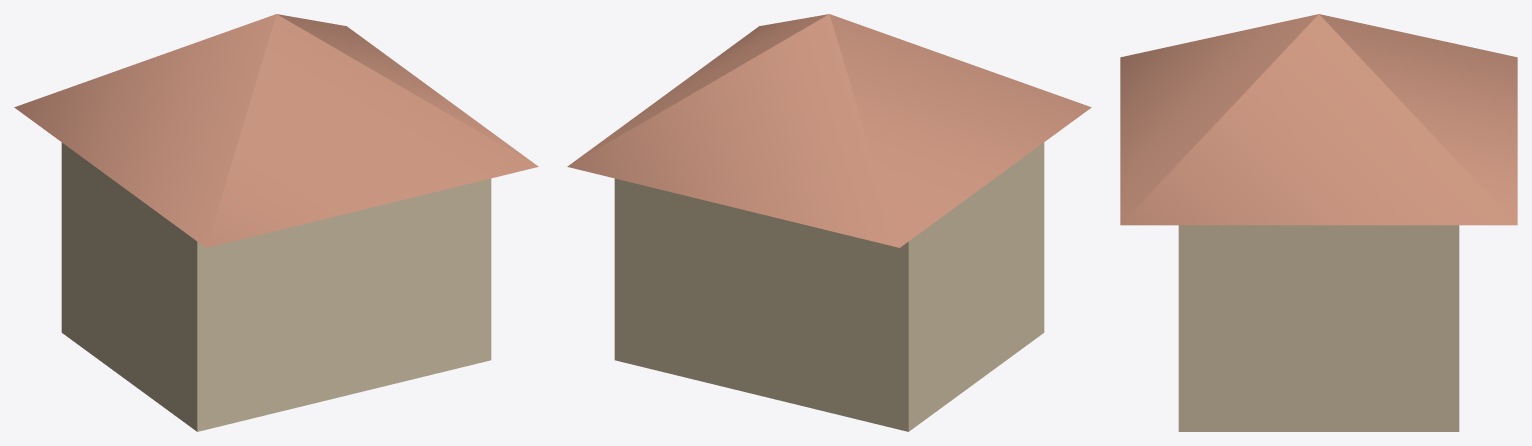
The picture shows the model from 3 angles, left to right: view 1: azimuth 30°, elevation 25°; view 2: azimuth 150°, elevation 25°; view 3: azimuth 270°, elevation 25°; orthographic projection. The views are drawn at different scales.
Size of the model in its own units: 5.66 by 5.4 by 5.66.
